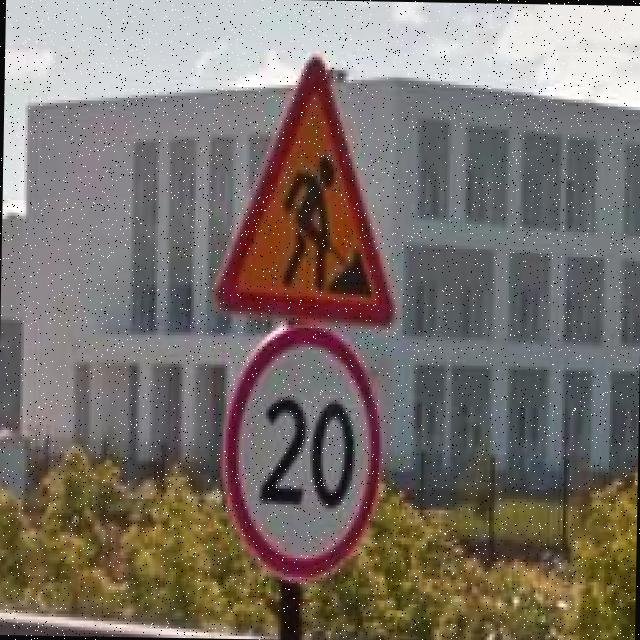Ograniczenie predkosci do 20: (220, 323, 383, 581)
